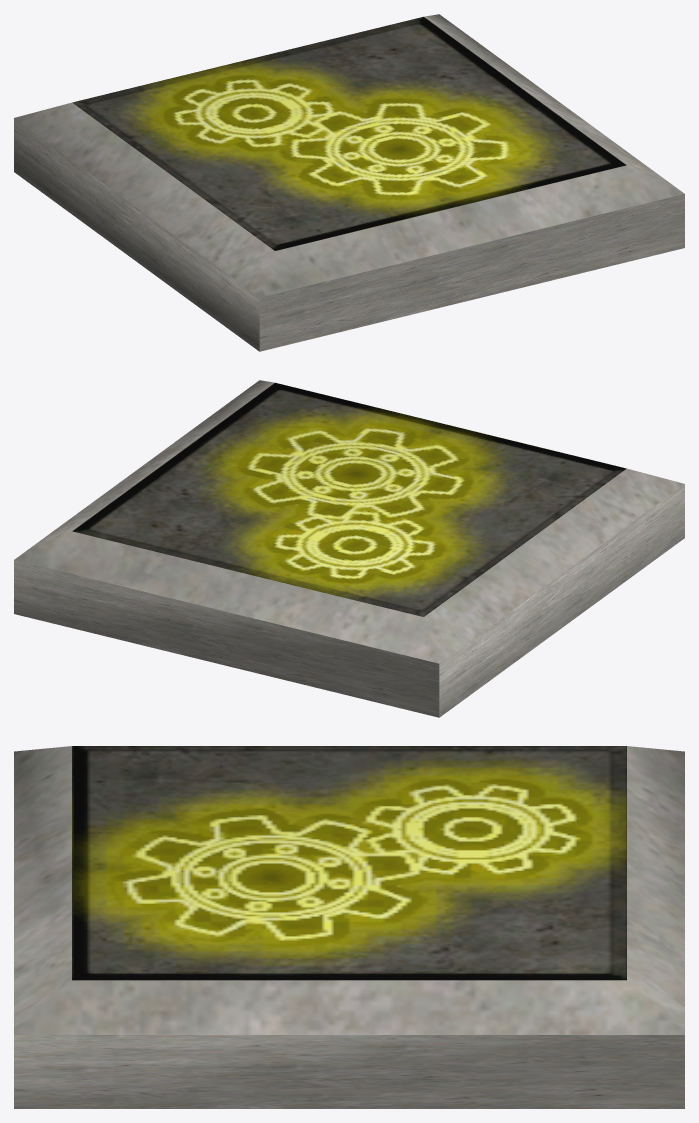
Rendered from FLOOR_RUIN_GEAR_FLOOR_RUIN_GEAR02.obj.
The picture shows the model from 3 angles, top to bottom: view 1: azimuth 30°, elevation 25°; view 2: azimuth 150°, elevation 25°; view 3: azimuth 270°, elevation 25°; orthographic projection. The views are drawn at different scales.
Visible parts, largest first — view 1: oor_ruin_gear02; view 2: oor_ruin_gear02; view 3: oor_ruin_gear02.
Boxes of the visible parts, x1=… form: oor_ruin_gear02: x1=14, y1=14, x2=684, y2=351; oor_ruin_gear02: x1=14, y1=380, x2=684, y2=717; oor_ruin_gear02: x1=14, y1=746, x2=684, y2=1108.
Size of the model in its own units: 150 by 25.65 by 150.
